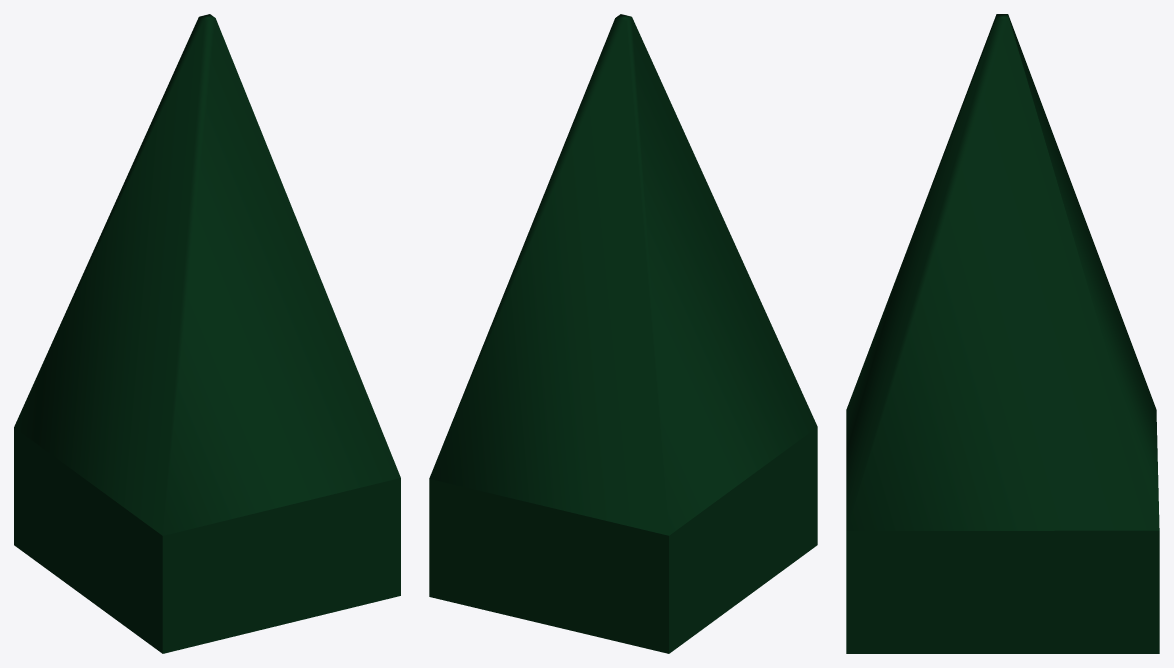
File: Mesh_Spike.fbx
3 views of the same model, side by side, from view 1: azimuth 30°, elevation 25°; view 2: azimuth 150°, elevation 25°; view 3: azimuth 270°, elevation 25° (orthographic). The views are drawn at different scales.
Parts seen in each view (by area): view 1: Mesh_Spike_Single; view 2: Mesh_Spike_Single; view 3: Mesh_Spike_Single.
Boxes of the visible parts, bbox=[...] form: Mesh_Spike_Single: bbox=[14, 14, 400, 653]; Mesh_Spike_Single: bbox=[429, 14, 817, 653]; Mesh_Spike_Single: bbox=[846, 14, 1159, 653].
Size of the model in its own units: 2.7 by 5.98 by 2.94.
